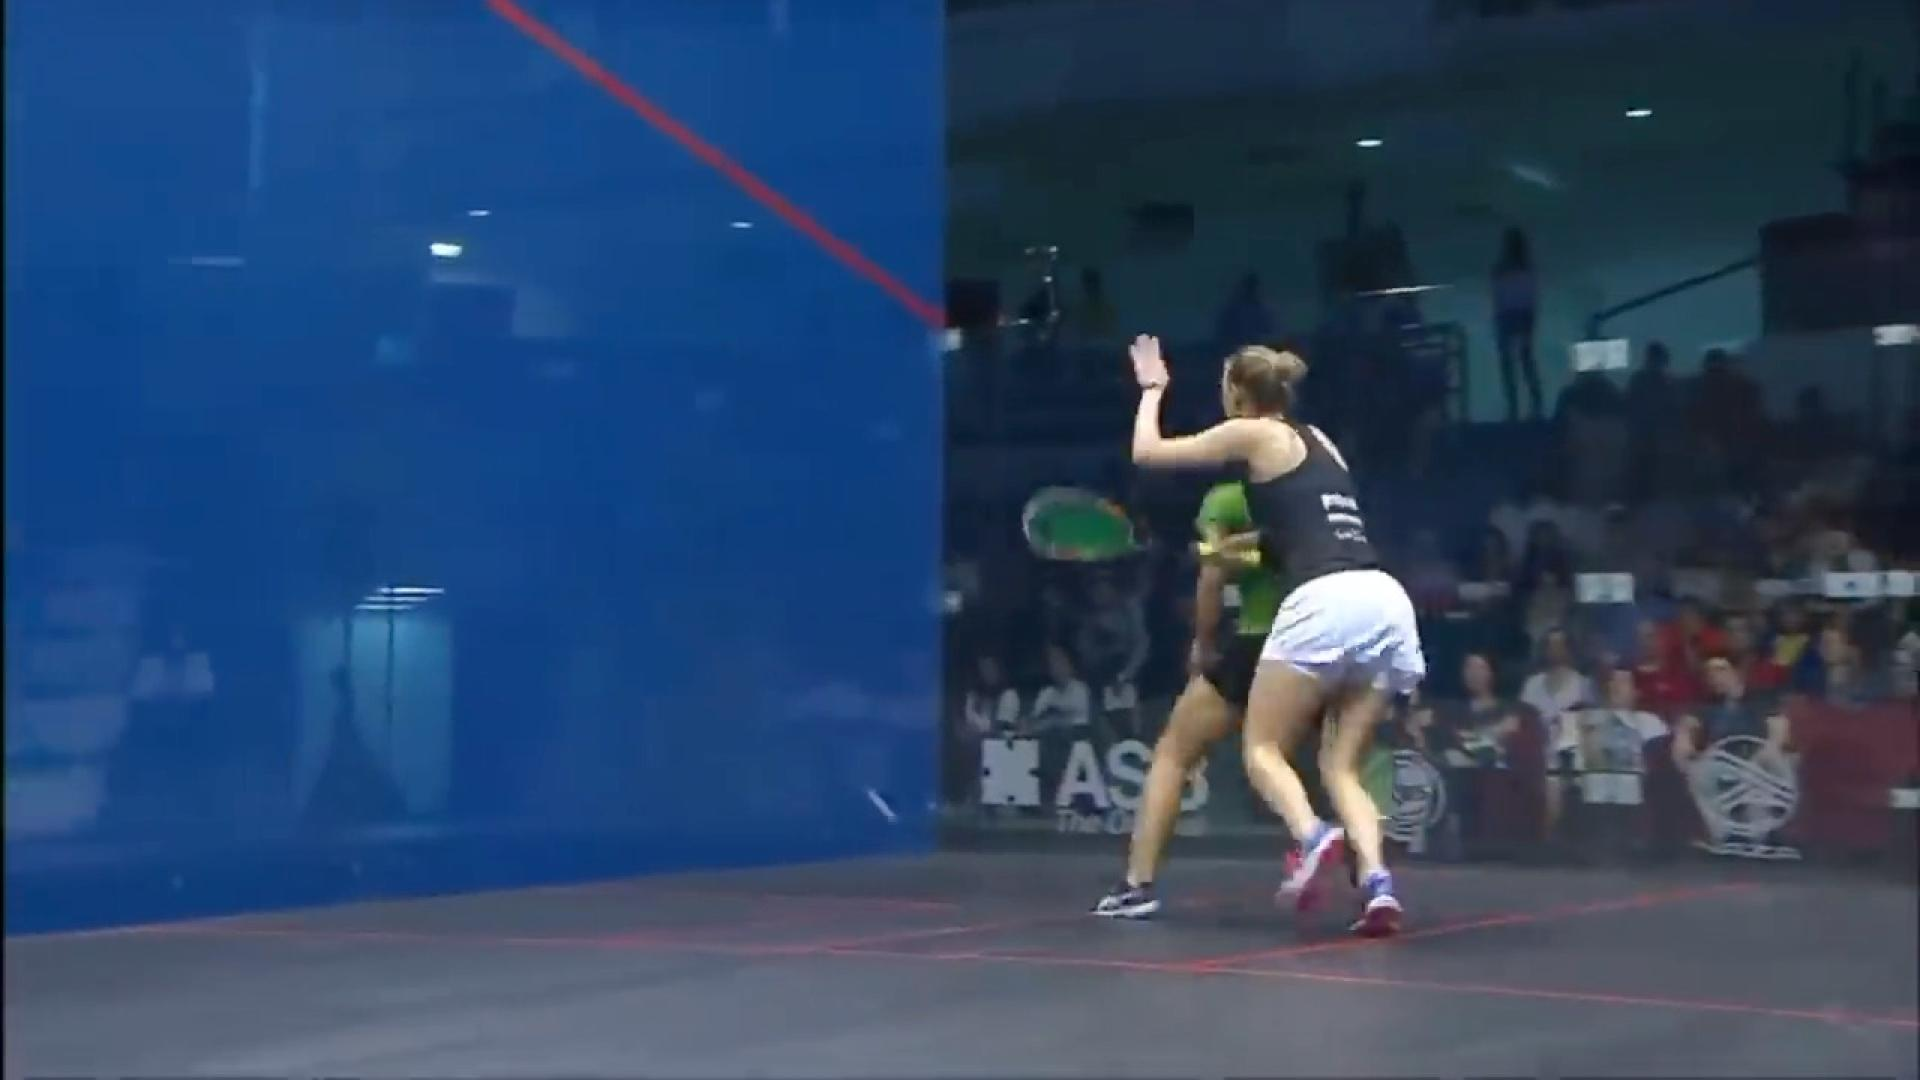Squash-Ball: (857, 783, 907, 835)
